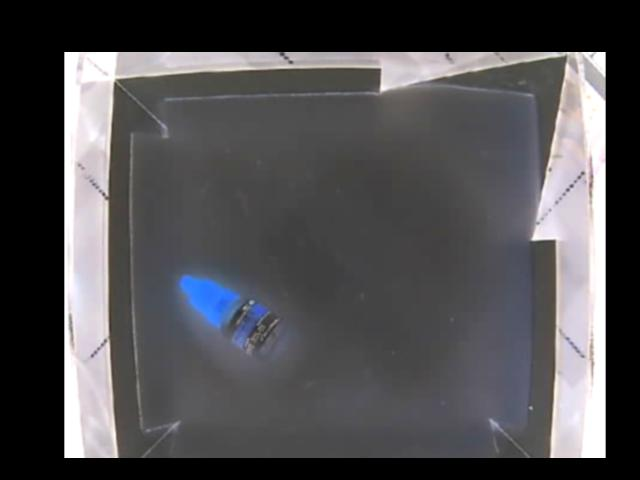Bottle: (176, 274, 283, 357)
